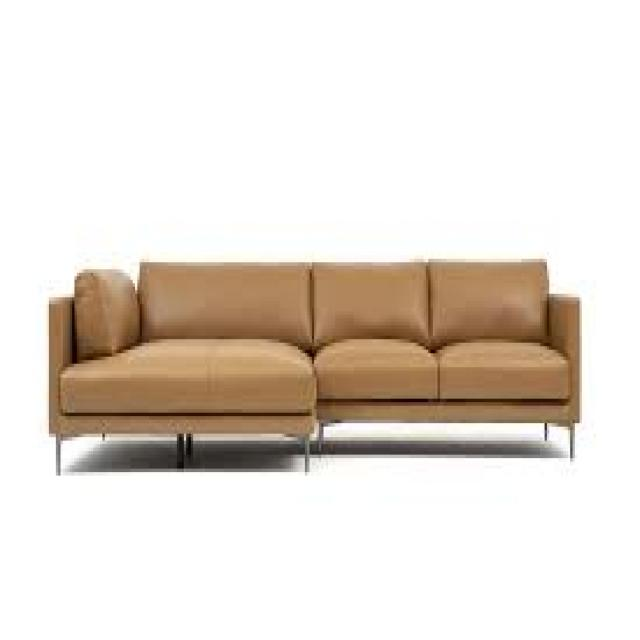Sofa: (24, 231, 640, 511)
